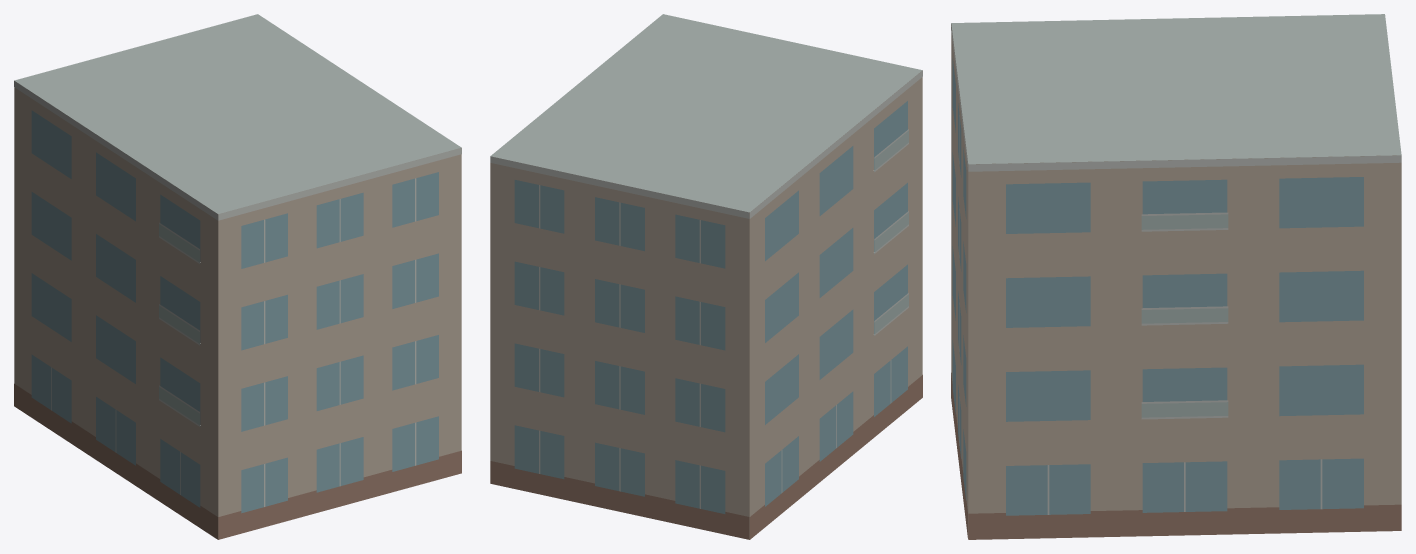
Rendered from survey-upis-32808494.glb.
The picture shows the model from 3 angles, left to right: view 1: azimuth 30°, elevation 25°; view 2: azimuth 150°, elevation 25°; view 3: azimuth 270°, elevation 25°; orthographic projection. The views are drawn at different scales.
Parts seen in each view (by area): view 1: survey-upis-32808494.tmp; view 2: survey-upis-32808494.tmp; view 3: survey-upis-32808494.tmp.
Part boxes in pixels (left/top/right/bottom): survey-upis-32808494.tmp: left=14, top=14, right=461, bottom=539; survey-upis-32808494.tmp: left=490, top=14, right=922, bottom=539; survey-upis-32808494.tmp: left=951, top=14, right=1401, bottom=539.
Size of the model in its own units: 10.48 by 12.2 by 13.27.
